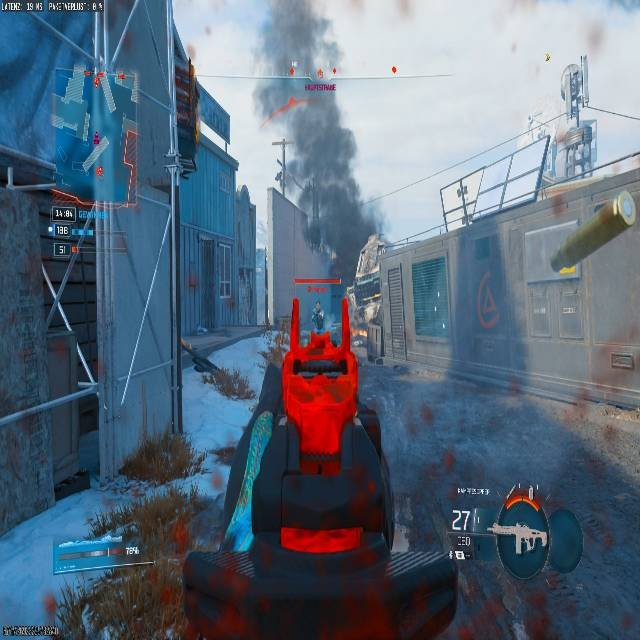player: (266, 92, 381, 353), (306, 302, 328, 340), (312, 300, 324, 332)
